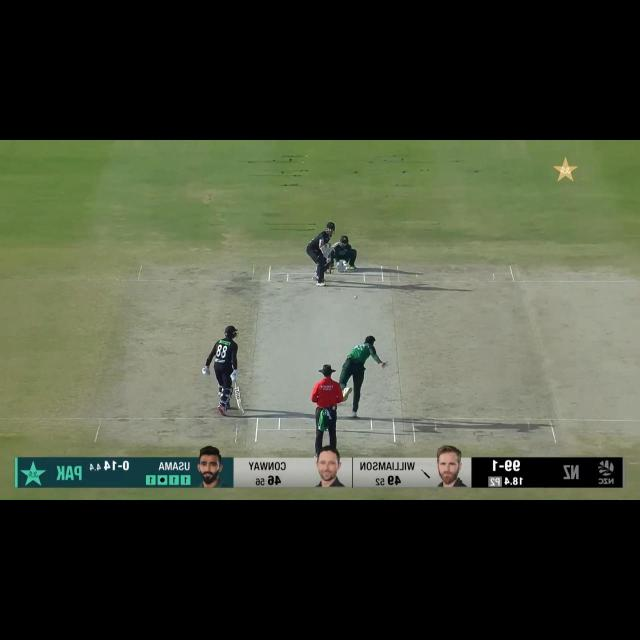bat: (234, 387, 245, 416), (327, 241, 341, 254)
toe: (237, 408, 245, 416), (334, 241, 340, 247)
